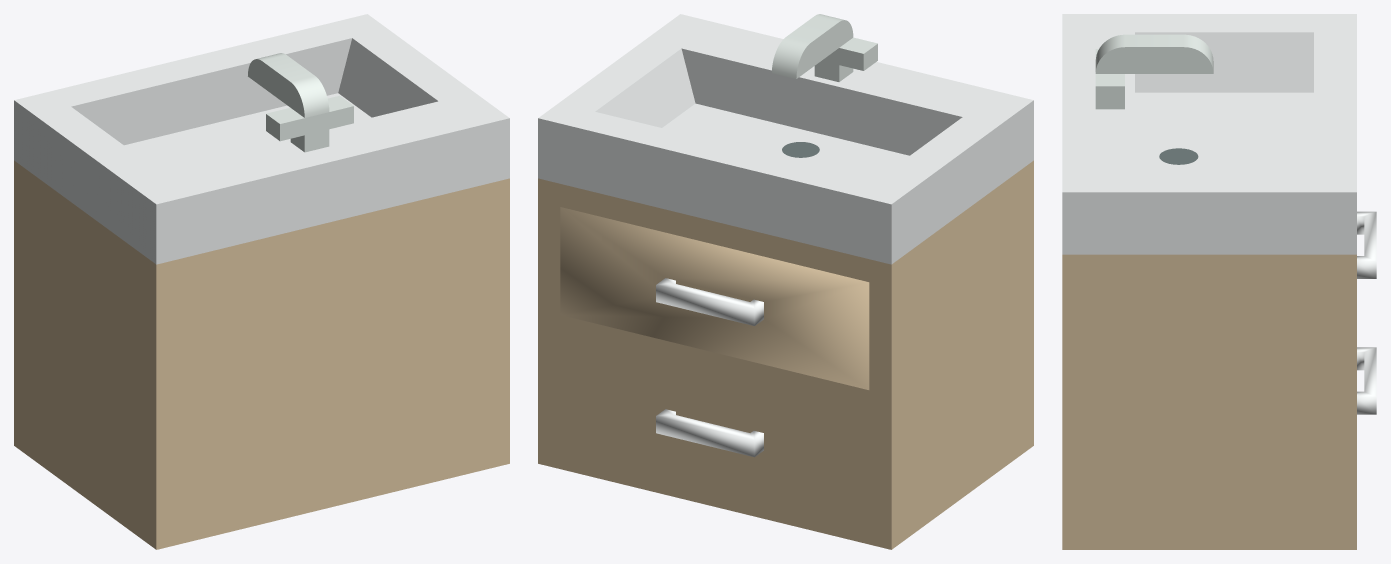
Rendered from kitchenCabinetDrawer.glb.
3 renders of one model, left to right at view 1: azimuth 30°, elevation 25°; view 2: azimuth 150°, elevation 25°; view 3: azimuth 270°, elevation 25°, orthographic. The views are drawn at different scales.
Parts seen in each view (by area): view 1: kitchenCabinetDrawer; view 2: kitchenCabinetDrawer; view 3: kitchenCabinetDrawer.
Boxes of the visible parts, box(x1,y1,x2,y2) form: kitchenCabinetDrawer: box(14, 14, 509, 549); kitchenCabinetDrawer: box(538, 14, 1033, 549); kitchenCabinetDrawer: box(1062, 14, 1376, 549).
Size of the model in its own units: 4.3 by 4.72 by 3.2.
